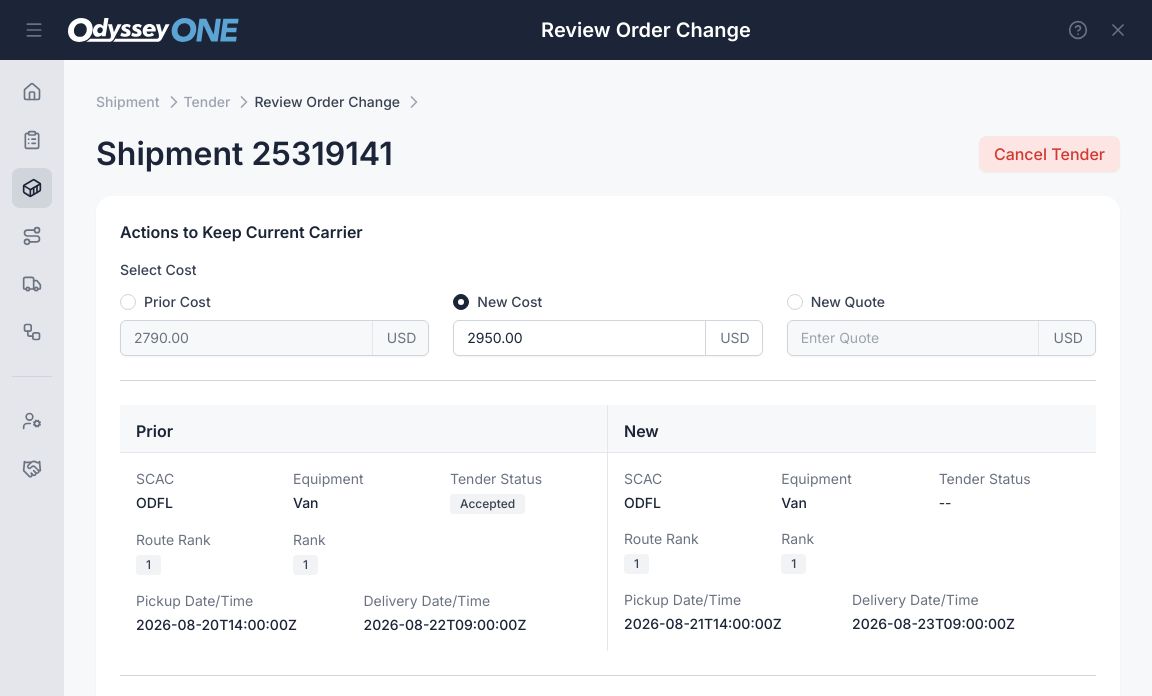
Scenario: OrderChangeReviewRoute › a failed resolution shows a visible error and keeps the planner on the review page
Click the button "Cancel Tender" at (1049, 154), box [979,136,1120,172]
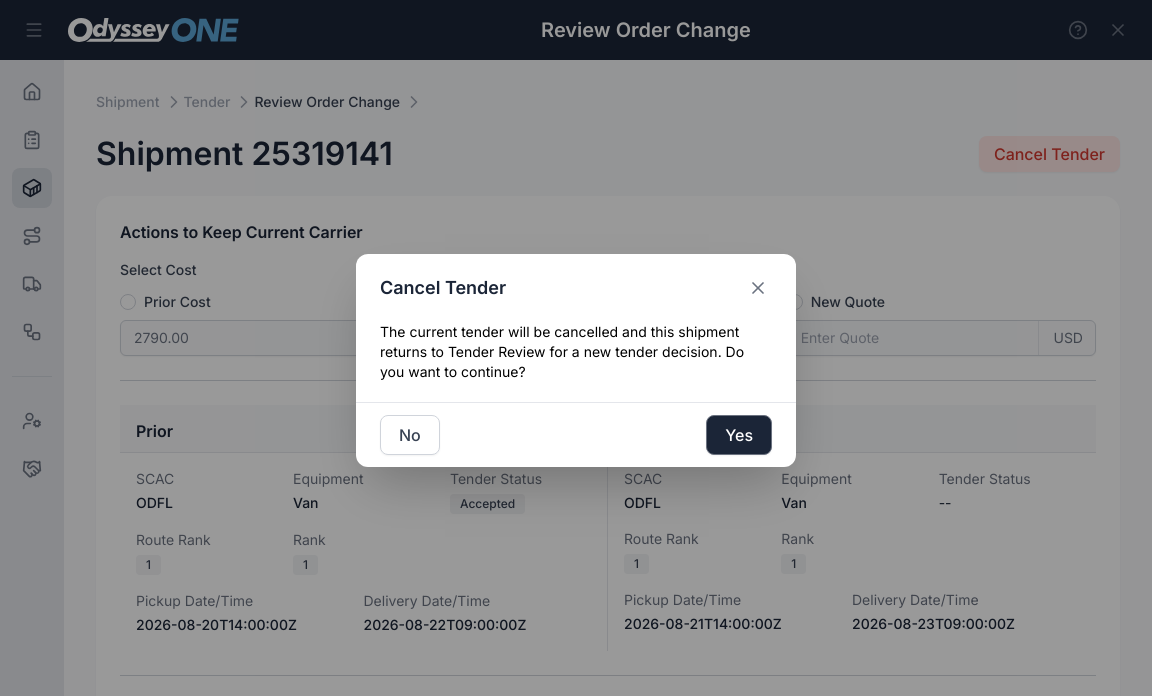
Click the button "Yes" at (739, 434), box [706,414,772,454]
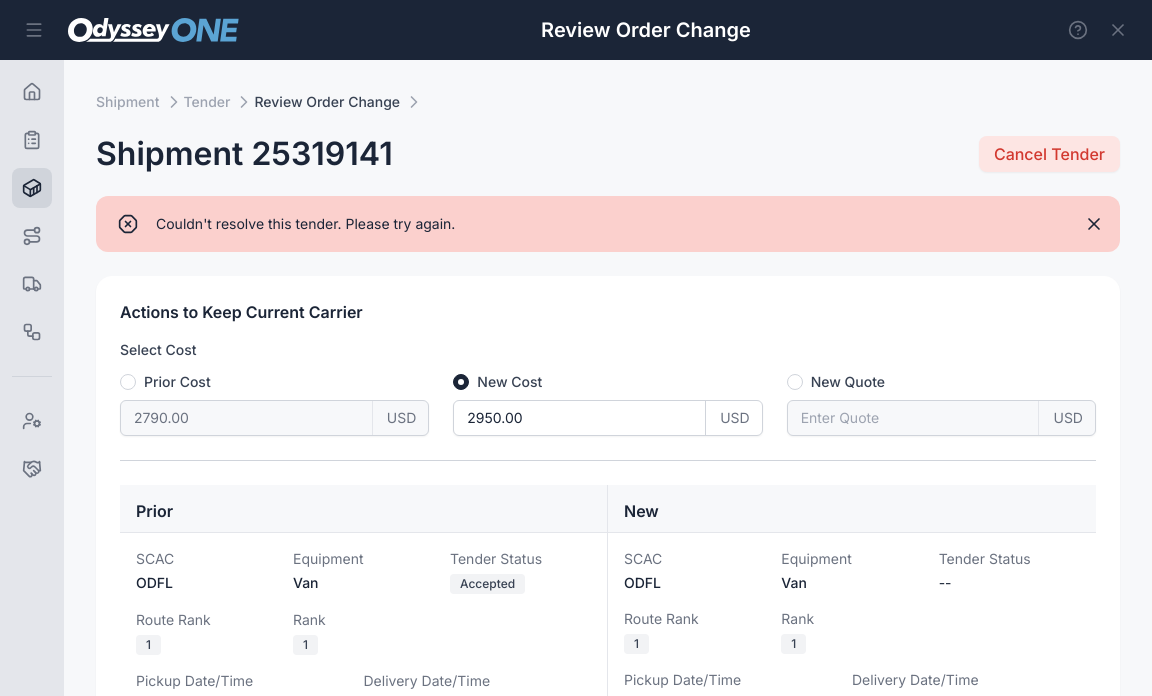
Expected: the button "Cancel Tender" is enabled, [979,136,1120,172]
Result: the text "Couldn't resolve this tender. Please try again." is shown at [156,215,455,232]
